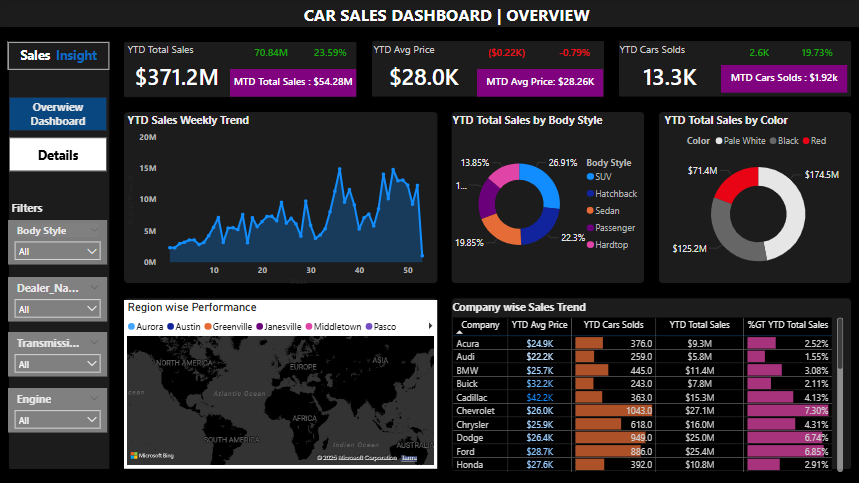

Layout of this report page (visuals, bound fields, positions):
{"tool":"powerbi","page":{"name":"Overwiew Dashboard","canvas":[1280,720],"ordinal":0},"visuals":[{"type":"card","title":"YTD Total Sales","fields":{"Values":["car_data.YTD Total Sales"]},"box":[186.5,62.2,157.9,82.3],"z":0},{"type":"card","fields":{"Values":["car_data.Sales Difference"]},"box":[361.2,62.2,87.3,35.3],"z":1000},{"type":"card","fields":{"Values":["car_data.YOY Sales Growth"]},"box":[448.5,62.2,87.3,35.3],"z":2000},{"type":"card","fields":{"Values":["car_data.MTD KPI"]},"box":[343.8,102.9,186.6,41.1],"z":3000},{"type":"card","title":"YTD Avg Price","fields":{"Values":["car_data.YTD Avg Price"]},"box":[551,61.7,158.7,82.3],"z":4000},{"type":"card","fields":{"Values":["car_data.Avg Price Diff"]},"box":[709.7,61.7,86.7,35.3],"z":5000},{"type":"card","fields":{"Values":["car_data.YOY Avg Price Growth"]},"box":[809.6,61.7,86.7,35.3],"z":6000},{"type":"card","fields":{"Values":["car_data.MTD Avg KPI"]},"box":[709.7,102.9,186.6,41.1],"z":7000},{"type":"card","title":"YTD Cars Solds","fields":{"Values":["car_data.YTD Cars Solds"]},"box":[915.4,61.7,158.7,82.3],"z":8000},{"type":"card","fields":{"Values":["car_data.Cars Sold Diff"]},"box":[1084.4,61.7,86.7,35.3],"z":9000},{"type":"card","fields":{"Values":["car_data.YOY Cars Sold"]},"box":[1171.1,61.7,86.7,35.3],"z":10000},{"type":"card","fields":{"Values":["car_data.MTD Cars Sold KPI"]},"box":[1071.2,97,186.6,41.1],"z":11000},{"type":"areaChart","title":"YTD Sales Weekly Trend","fields":{"Category":["Calendar.Week"],"Y":["Sum(car_data.Price ($))"]},"box":[186.6,167.5,464.3,260.1],"z":12000},{"type":"donutChart","fields":{"Category":["car_data.Body Style"],"Y":["car_data.YTD Total Sales"]},"box":[668.6,167.5,292.4,249.8],"z":13000},{"type":"donutChart","fields":{"Y":["car_data.YTD Total Sales"],"Category":["car_data.Color"]},"box":[981.6,167.5,288,249.8],"z":14000},{"type":"map","title":"Region wise Performance","fields":{"Series":["car_data.Dealer_Region"],"Size":["car_data.YTD Cars Solds"]},"box":[186.6,443.8,464.3,249.8],"z":15000},{"type":"tableEx","title":"Company wise Sales Trend","fields":{"Values":["car_data.Company","car_data.YTD Avg Price","car_data.YTD Cars Solds","car_data.YTD Total Sales1","car_data.YTD Total Sales"]},"box":[668.6,443.8,589.2,260.1],"z":16000},{"type":"textbox","box":[432,0,464.3,45.6],"z":17000},{"type":"slicer","fields":{"Values":["car_data.Body Style"]},"box":[14.7,326.2,146.9,66.1],"z":18000},{"type":"slicer","fields":{"Values":["car_data.Dealer_Name"]},"box":[14.7,410,146.9,66.1],"z":19000},{"type":"slicer","fields":{"Values":["car_data.Transmission"]},"box":[14.7,492.2,146.9,66.1],"z":20000},{"type":"slicer","fields":{"Values":["car_data.Engine"]},"box":[14.7,574.5,146.9,66.1],"z":21000},{"type":"textbox","box":[14.7,292.4,149.9,32.3],"z":22000},{"type":"textbox","box":[14.7,61.7,149.9,41.1],"z":23000},{"type":"pageNavigator","box":[16.2,144,145.5,110.2],"z":24000}]}

Visuals, with their boxes on the page's 1280x720 design canvas (x1, y1, x2, y2). These are canvas units, not pixel positions in the 859x483 screenshot, which may show the page scaled, cropped or inside an application window:
"YTD Total Sales" card: region(186, 62, 344, 144)
card - car_data.Sales Difference: region(361, 62, 448, 98)
card - car_data.YOY Sales Growth: region(448, 62, 536, 98)
card - car_data.MTD KPI: region(344, 103, 530, 144)
"YTD Avg Price" card: region(551, 62, 710, 144)
card - car_data.Avg Price Diff: region(710, 62, 796, 97)
card - car_data.YOY Avg Price Growth: region(810, 62, 896, 97)
card - car_data.MTD Avg KPI: region(710, 103, 896, 144)
"YTD Cars Solds" card: region(915, 62, 1074, 144)
card - car_data.Cars Sold Diff: region(1084, 62, 1171, 97)
card - car_data.YOY Cars Sold: region(1171, 62, 1258, 97)
card - car_data.MTD Cars Sold KPI: region(1071, 97, 1258, 138)
"YTD Sales Weekly Trend" areaChart: region(187, 168, 651, 428)
donutChart - car_data.Body Style x car_data.YTD Total Sales: region(669, 168, 961, 417)
donutChart - car_data.YTD Total Sales x car_data.Color: region(982, 168, 1270, 417)
"Region wise Performance" map: region(187, 444, 651, 694)
"Company wise Sales Trend" tableEx: region(669, 444, 1258, 704)
textbox: region(432, 0, 896, 46)
slicer - car_data.Body Style: region(15, 326, 162, 392)
slicer - car_data.Dealer_Name: region(15, 410, 162, 476)
slicer - car_data.Transmission: region(15, 492, 162, 558)
slicer - car_data.Engine: region(15, 574, 162, 641)
textbox: region(15, 292, 165, 325)
textbox: region(15, 62, 165, 103)
pageNavigator: region(16, 144, 162, 254)
